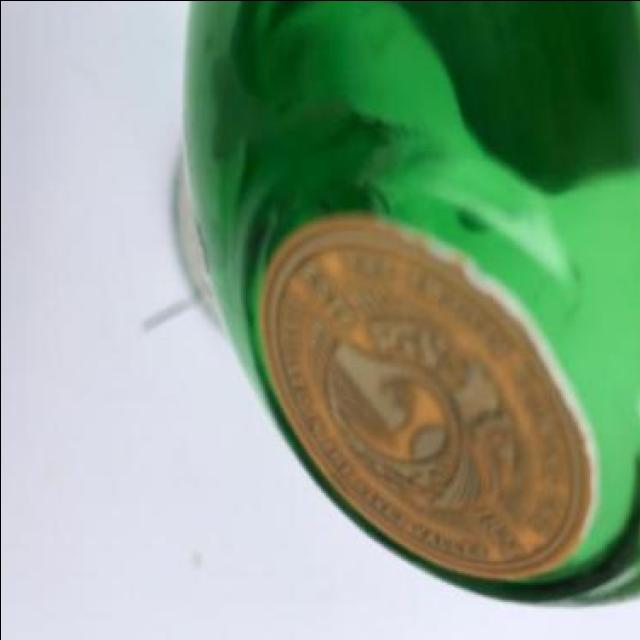kaca: (174, 0, 640, 611)
